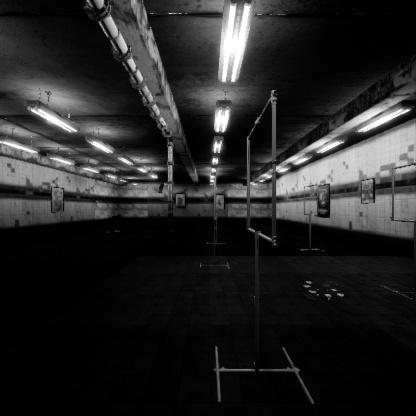gate: (251, 167, 283, 329), (392, 190, 416, 261), (304, 199, 319, 232), (215, 196, 217, 242), (216, 201, 217, 228)
